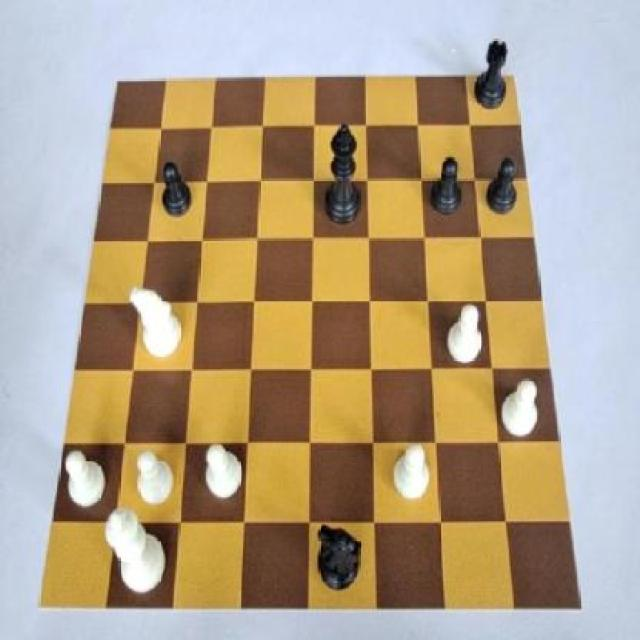black-bishop: (318, 123, 368, 228)
black-king: (316, 514, 366, 598)
black-knight: (152, 157, 200, 226), (424, 152, 468, 222), (485, 148, 523, 220)
black-queen: (469, 23, 520, 109)
white-bishop: (102, 503, 172, 599)
white-king: (123, 278, 187, 359)
white-knight: (388, 430, 436, 516), (58, 438, 108, 512), (196, 435, 244, 511), (497, 374, 543, 444), (134, 443, 178, 515), (446, 303, 491, 371)
